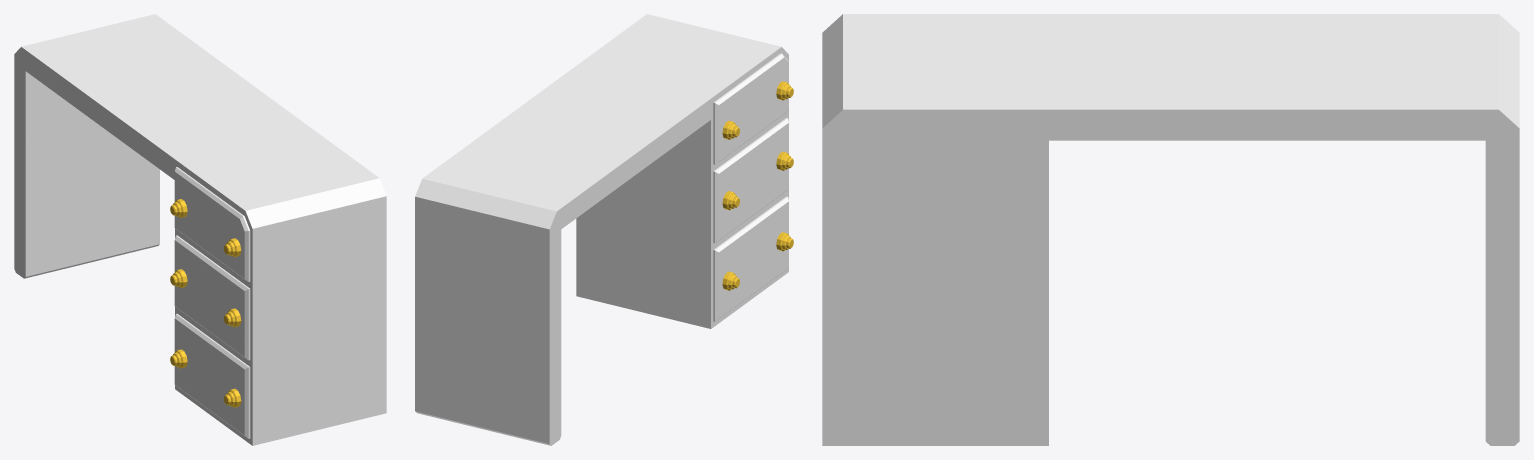
The model's file is Wardrobe_26.fbx.
3 views of the same model, side by side, from view 1: azimuth 30°, elevation 25°; view 2: azimuth 150°, elevation 25°; view 3: azimuth 270°, elevation 25° (orthographic). The views are drawn at different scales.
Parts seen in each view (by area): view 1: Wardrobe_26, Wardrobe_26 Door_3, Wardrobe_26 Door_2, Wardrobe_26 Door_1; view 2: Wardrobe_26, Wardrobe_26 Door_2, Wardrobe_26 Door_3, Wardrobe_26 Door_1; view 3: Wardrobe_26.
Boxes of the visible parts, x1,y1,x2,y2 form: Wardrobe_26: (14,14,386,445); Wardrobe_26 Door_3: (170,313,250,438); Wardrobe_26 Door_2: (170,235,250,360); Wardrobe_26 Door_1: (170,167,250,281); Wardrobe_26: (415,14,788,445); Wardrobe_26 Door_2: (713,118,793,243); Wardrobe_26 Door_3: (713,196,793,321); Wardrobe_26 Door_1: (713,53,793,164); Wardrobe_26: (822,14,1519,445).
Bounding box in the file's own units: 0.4959 × 0.7313 × 1.37.
